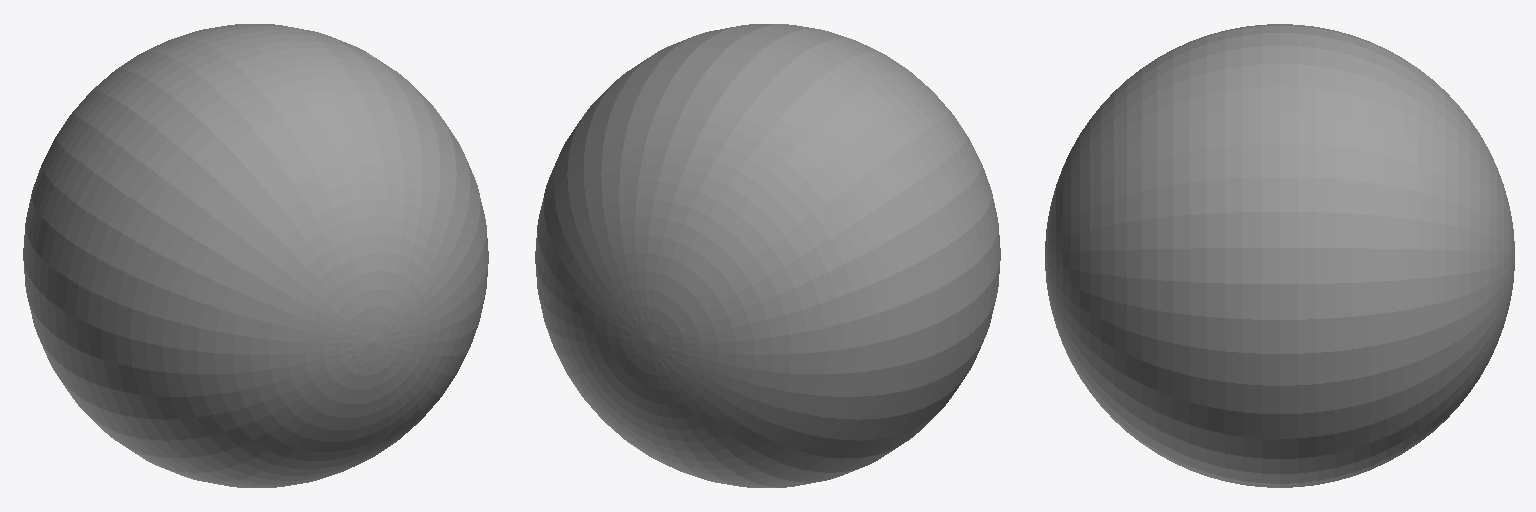
File: earth.obj
3 views of the same model, side by side, from view 1: azimuth 30°, elevation 25°; view 2: azimuth 150°, elevation 25°; view 3: azimuth 270°, elevation 25° (orthographic).
Parts seen in each view (by area): view 1: Sphere; view 2: Sphere; view 3: Sphere.
Part boxes in pixels (left/top/right/bottom): Sphere: left=23, top=24, right=488, bottom=487; Sphere: left=535, top=24, right=1000, bottom=487; Sphere: left=1045, top=24, right=1514, bottom=487.
Bounding box in the file's own units: 5.89 × 5.89 × 5.98.